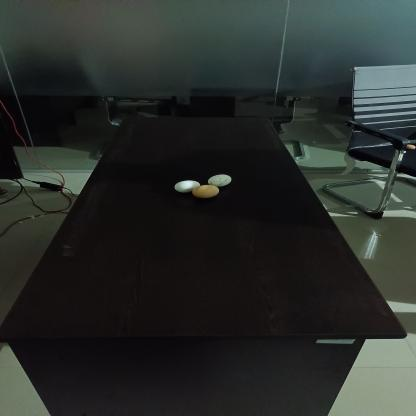egg: (172, 178, 202, 194), (194, 183, 220, 198), (210, 172, 234, 187)
